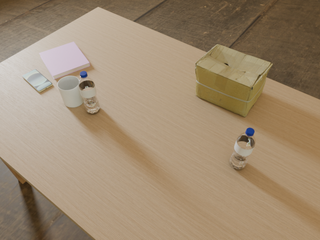book: (39, 42, 90, 79)
bottle: (229, 128, 256, 169), (79, 71, 100, 114)
box: (195, 44, 273, 117)
cup: (58, 76, 84, 107)
phone: (22, 69, 52, 92)
